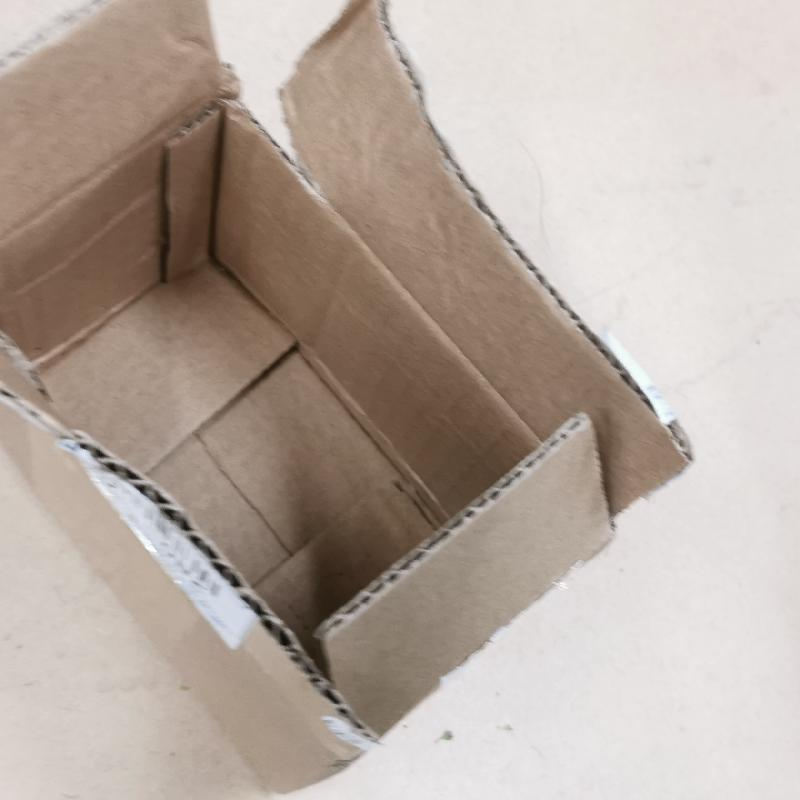boxes: (0, 4, 694, 788)
